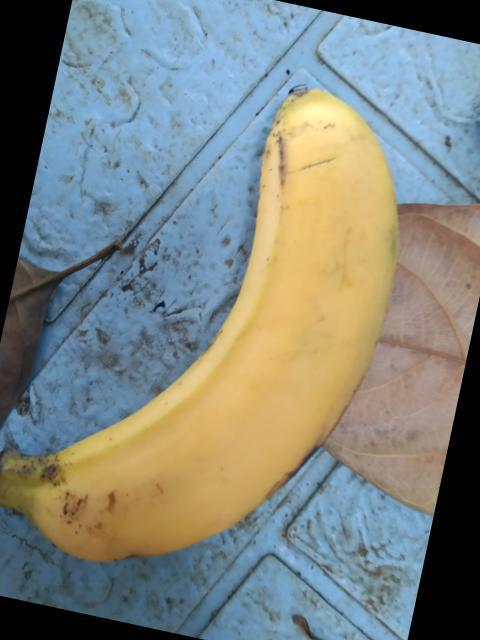freshripe: (0, 85, 395, 577)
